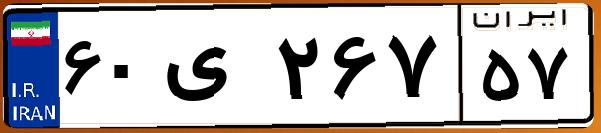0: (110, 28, 158, 98)
2: (270, 28, 330, 110)
5: (475, 38, 525, 113)
6: (330, 28, 385, 110), (57, 26, 110, 100)
7: (385, 28, 445, 110), (525, 38, 570, 115)
ی: (158, 20, 270, 120)
